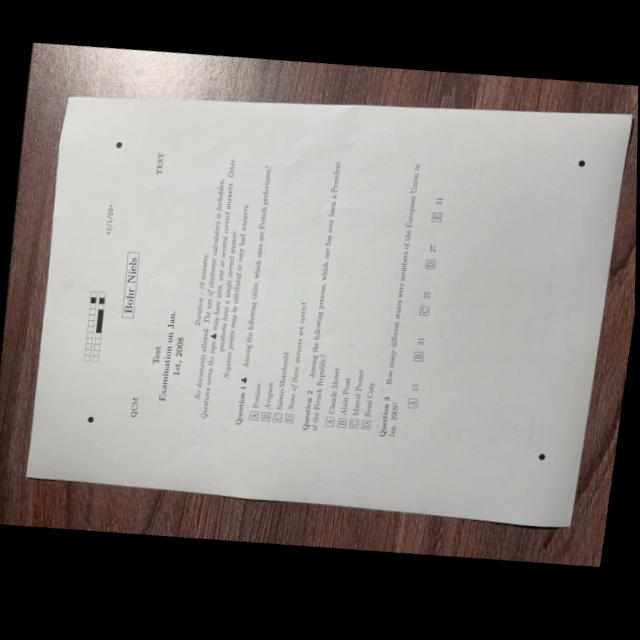Markers: (537, 451, 545, 460), (578, 158, 586, 166), (87, 414, 94, 423), (115, 140, 122, 148)
